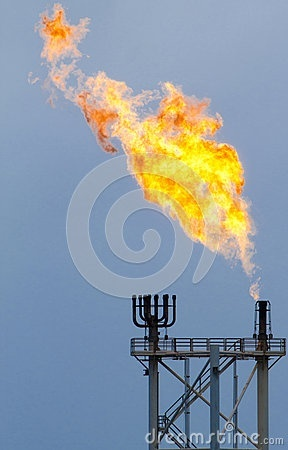fire: (53, 67, 268, 268), (33, 0, 90, 101)
